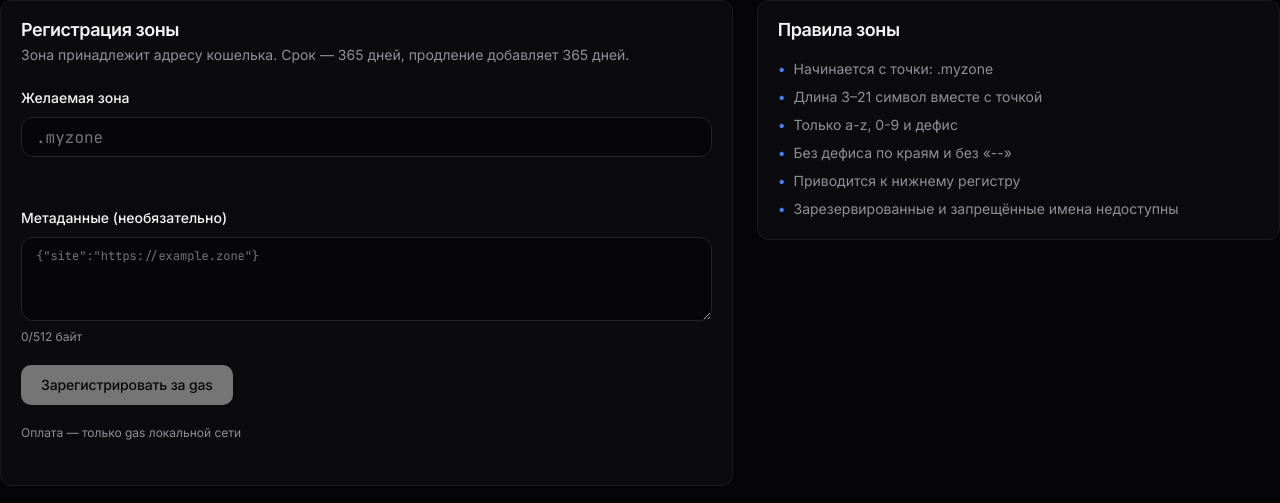
Scenario: UI: форма регистрации › показывает доступность свободной зоны и отправляет подготовку транзакции
Later steps or results of the test are not shown.
Step 1. Type "myzone" into the field labelled "Желаемая зона" → [366, 137], box left=21, top=117, right=712, bottom=157
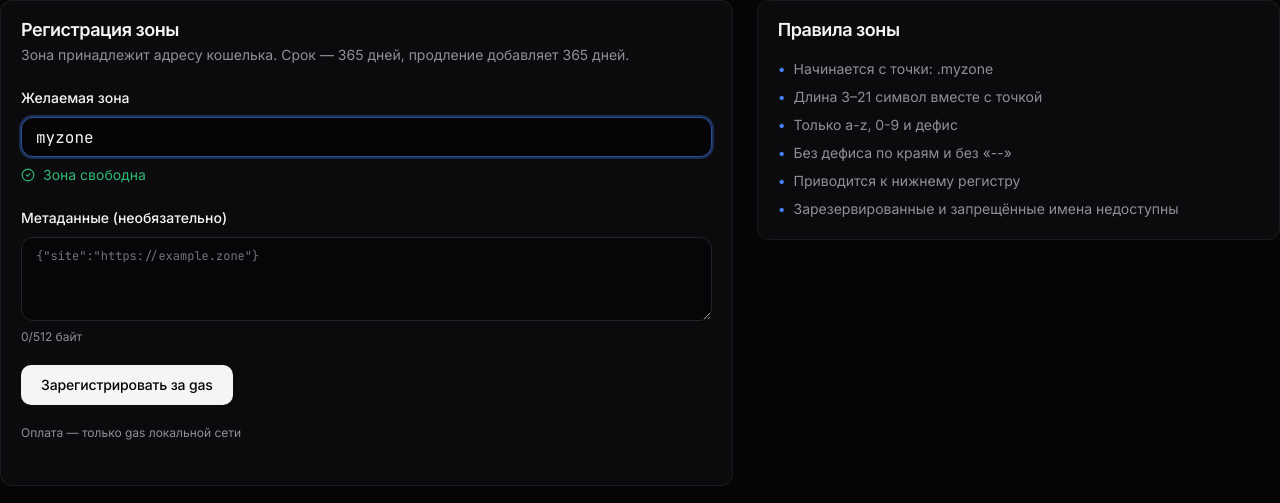
Check: the text "Зона свободна" is shown, box left=21, top=166, right=146, bottom=183
Check: the button "Зарегистрировать за gas" is enabled, box left=21, top=365, right=233, bottom=405
